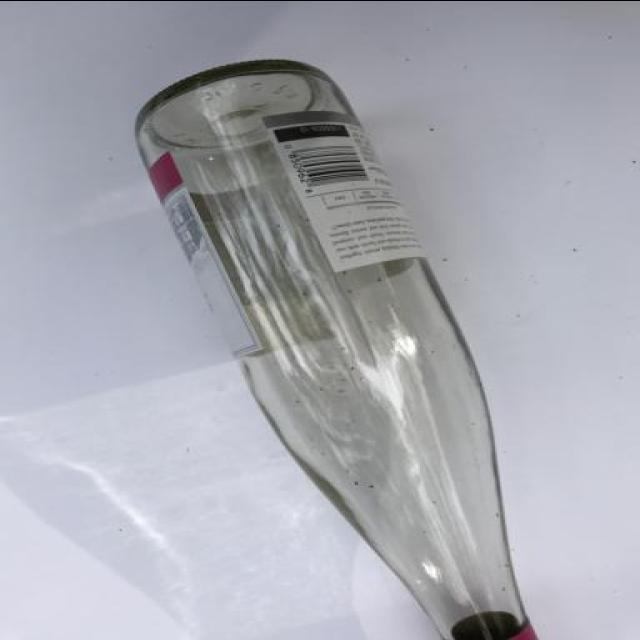Glass Bottle: (136, 60, 542, 640)
